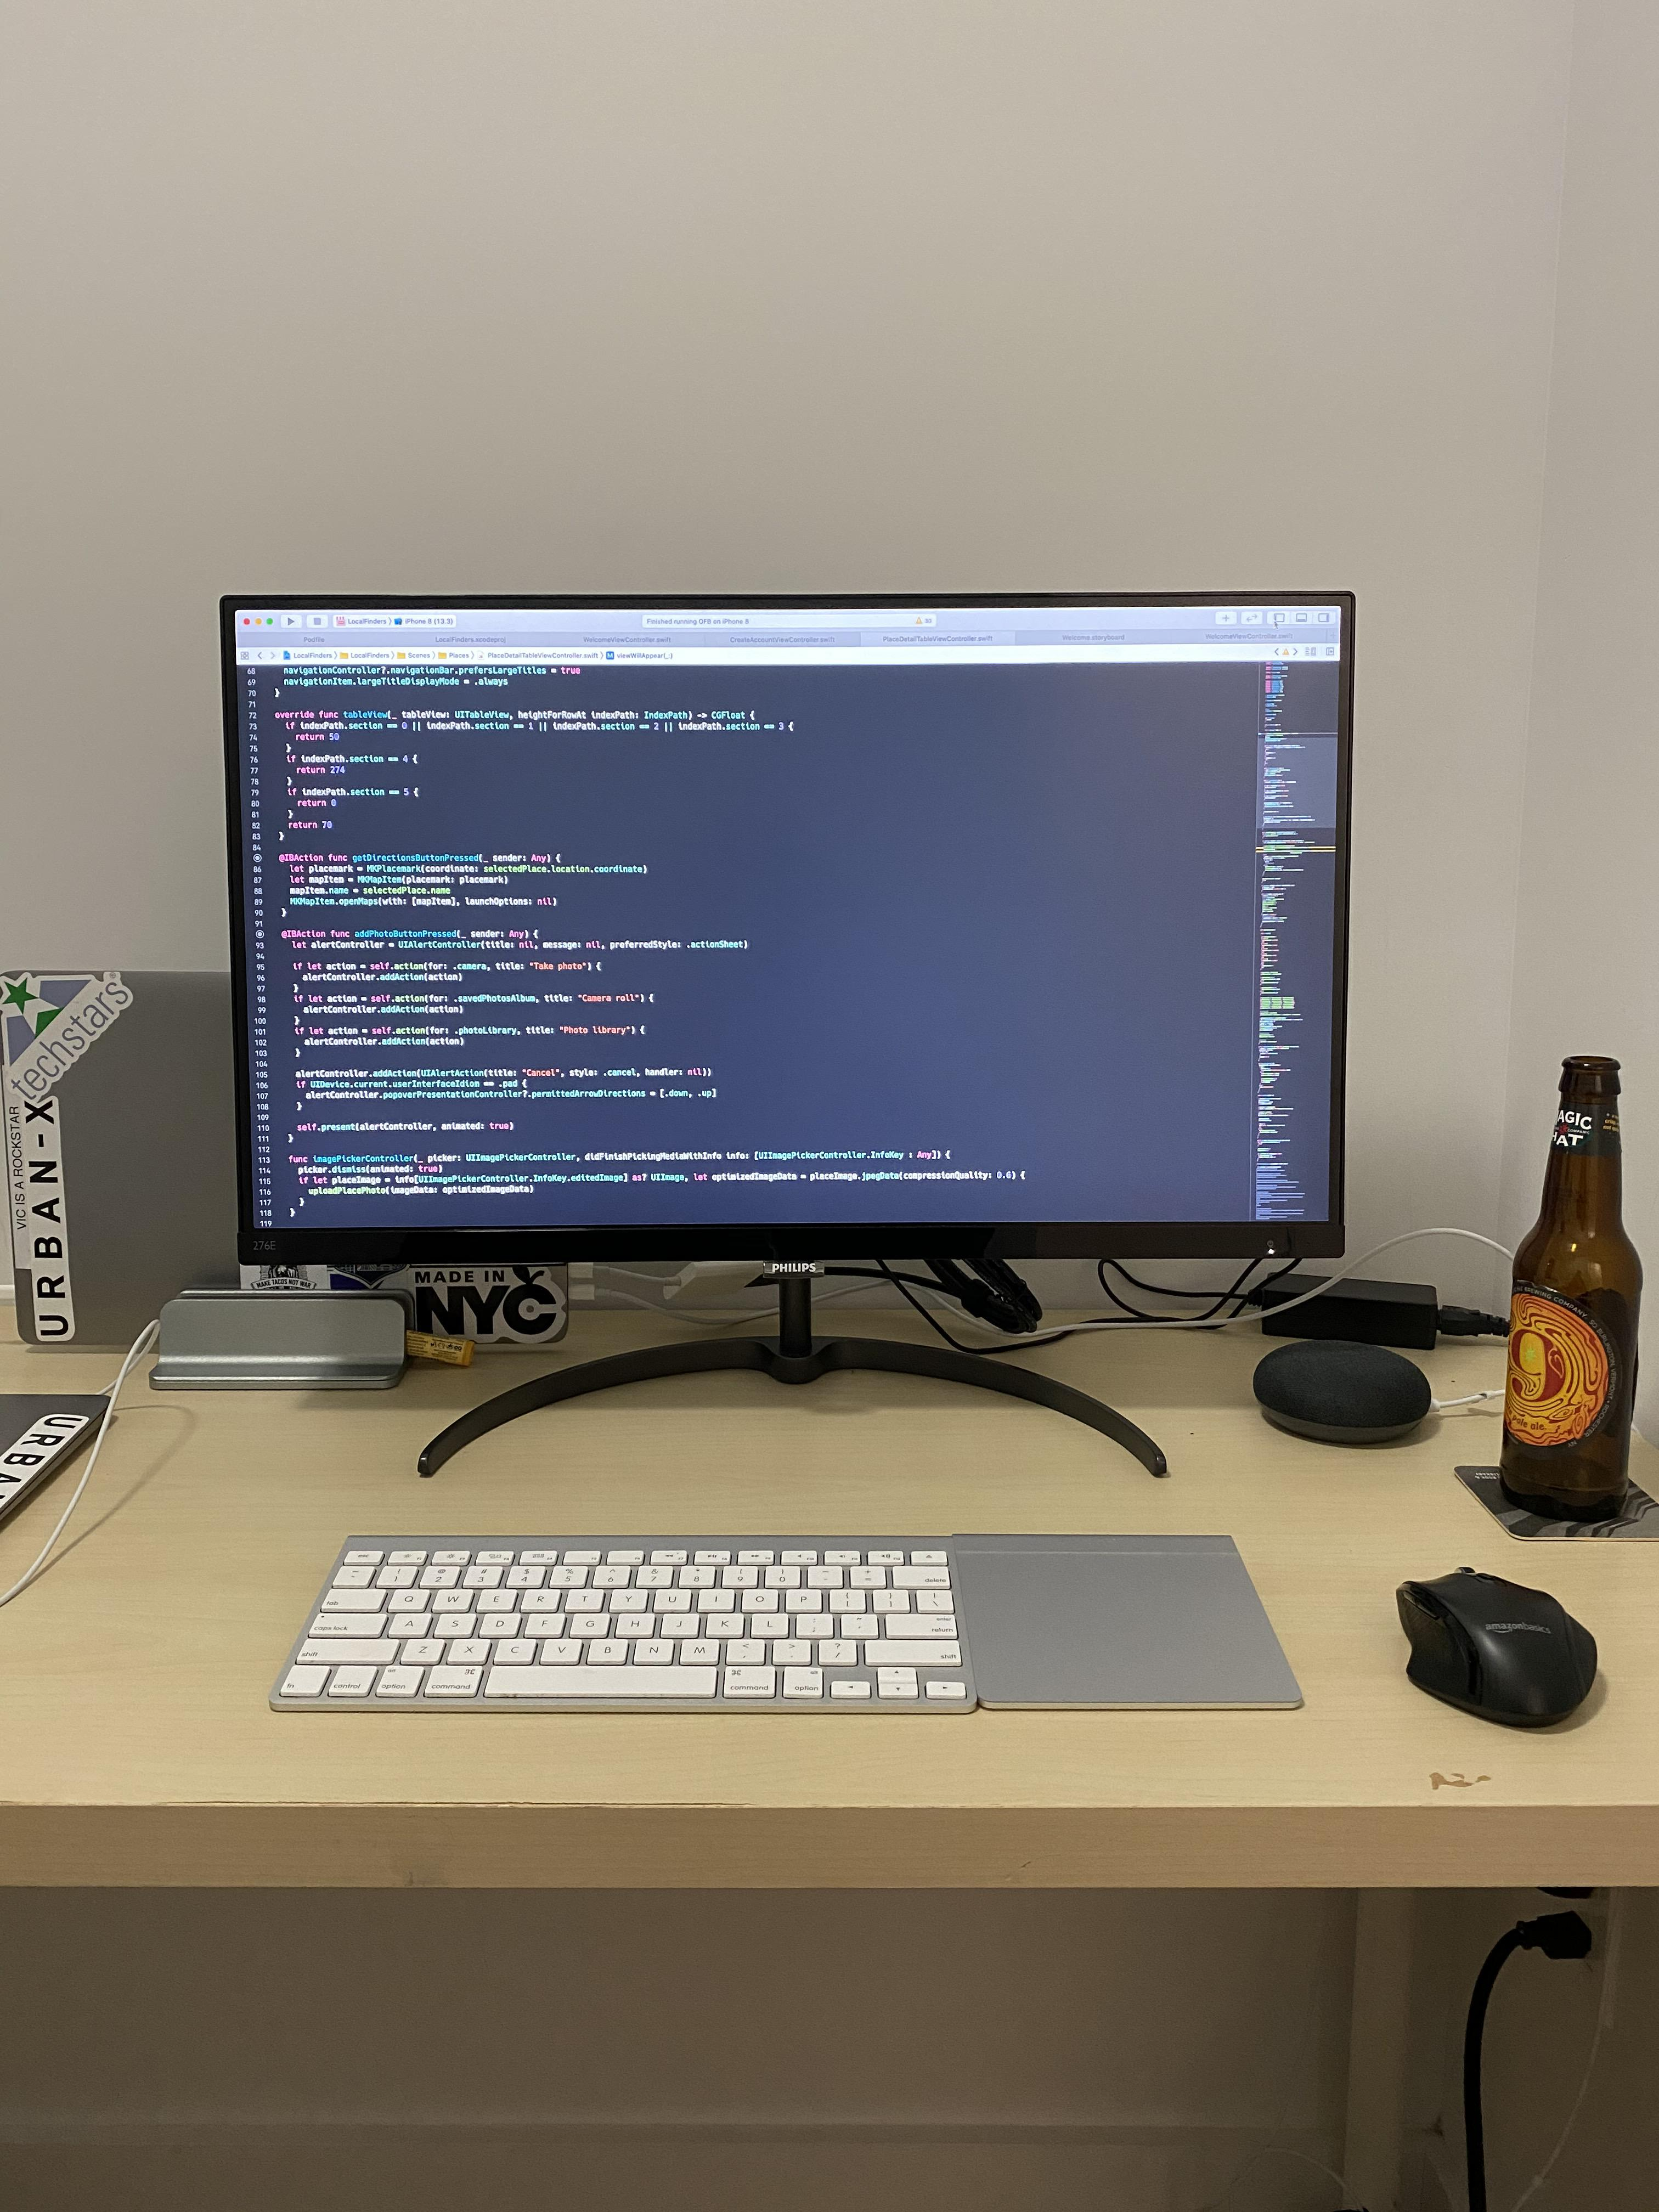Desk (Generic): (0, 1298, 1657, 2212)
Drink Coaster: (1460, 1440, 1659, 1541)
External Speakers (Generic): (1227, 1322, 1446, 1463)
Keyboard (Generic): (279, 1526, 969, 1707)
Laptop (OSX): (0, 968, 234, 1355), (0, 1379, 127, 1632)
Monitor (Landscape): (214, 580, 1366, 1273)
Mouse (Ergonomic): (1368, 1555, 1638, 1745)
Mouse (Magic Trackpad): (955, 1521, 1316, 1703)
